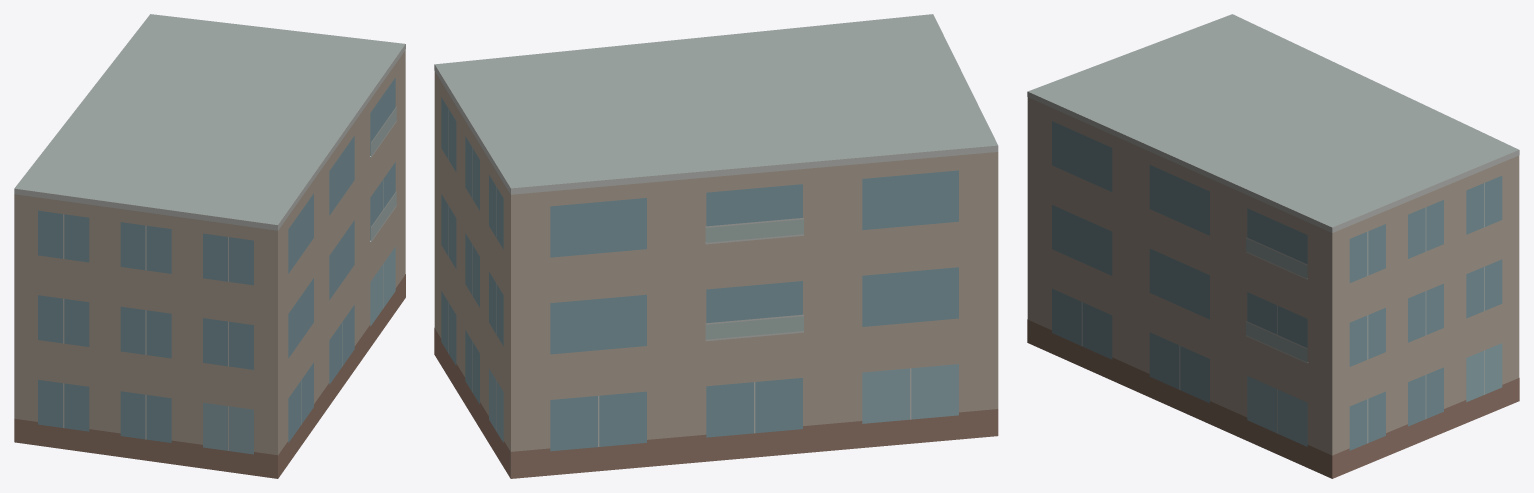
File: survey-upis-32837614.glb
The picture shows the model from 3 angles, left to right: view 1: azimuth 30°, elevation 25°; view 2: azimuth 150°, elevation 25°; view 3: azimuth 270°, elevation 25°; orthographic projection. The views are drawn at different scales.
Visible parts, largest first — view 1: survey-upis-32837614.tmp; view 2: survey-upis-32837614.tmp; view 3: survey-upis-32837614.tmp.
Boxes of the visible parts, x1,y1,x2,y2 form: survey-upis-32837614.tmp: (14,14,405,478); survey-upis-32837614.tmp: (434,14,998,478); survey-upis-32837614.tmp: (1027,14,1519,478).
Bounding box in the file's own units: 20.43 × 11.2 × 19.88.
